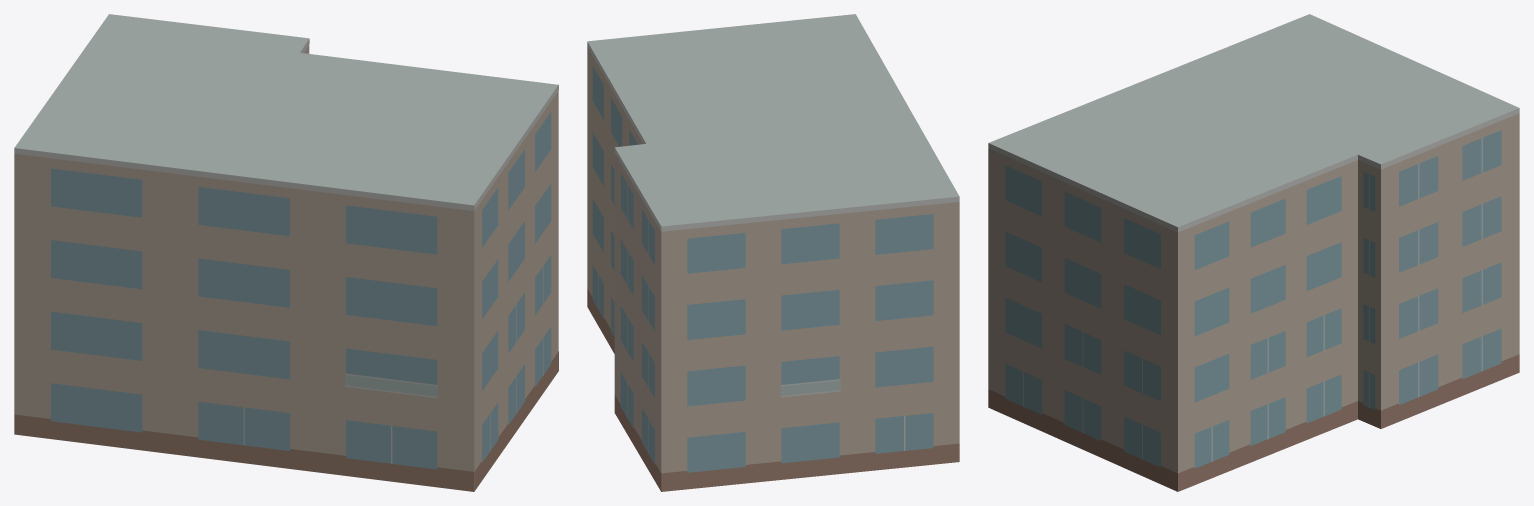
File: survey-upis-33033231.glb
The picture shows the model from 3 angles, left to right: view 1: azimuth 30°, elevation 25°; view 2: azimuth 150°, elevation 25°; view 3: azimuth 270°, elevation 25°; orthographic projection. The views are drawn at different scales.
Parts seen in each view (by area): view 1: survey-upis-33033231.tmp; view 2: survey-upis-33033231.tmp; view 3: survey-upis-33033231.tmp.
Boxes of the visible parts, x1,y1,x2,y2 form: survey-upis-33033231.tmp: (14, 14, 558, 491); survey-upis-33033231.tmp: (587, 14, 959, 491); survey-upis-33033231.tmp: (988, 14, 1519, 491).
Size of the model in its own units: 21.36 by 12.35 by 22.47.
